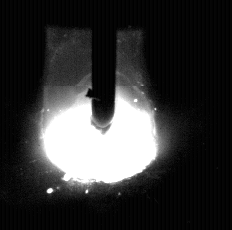arame: (93, 0, 115, 135)
poca: (43, 0, 157, 230)
